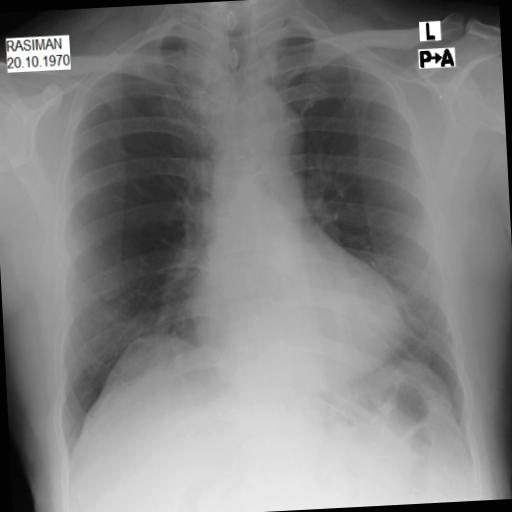kardiomegali: (32, 6, 482, 467)
